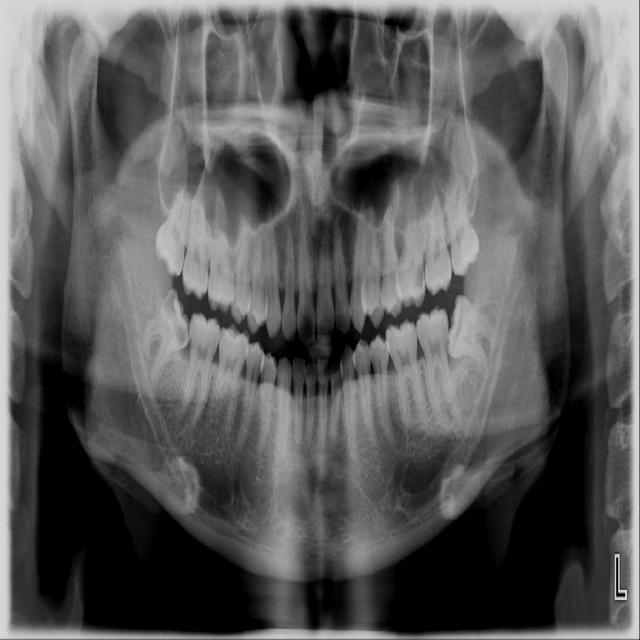impacted tooth: (136, 288, 187, 385), (446, 293, 499, 372)
